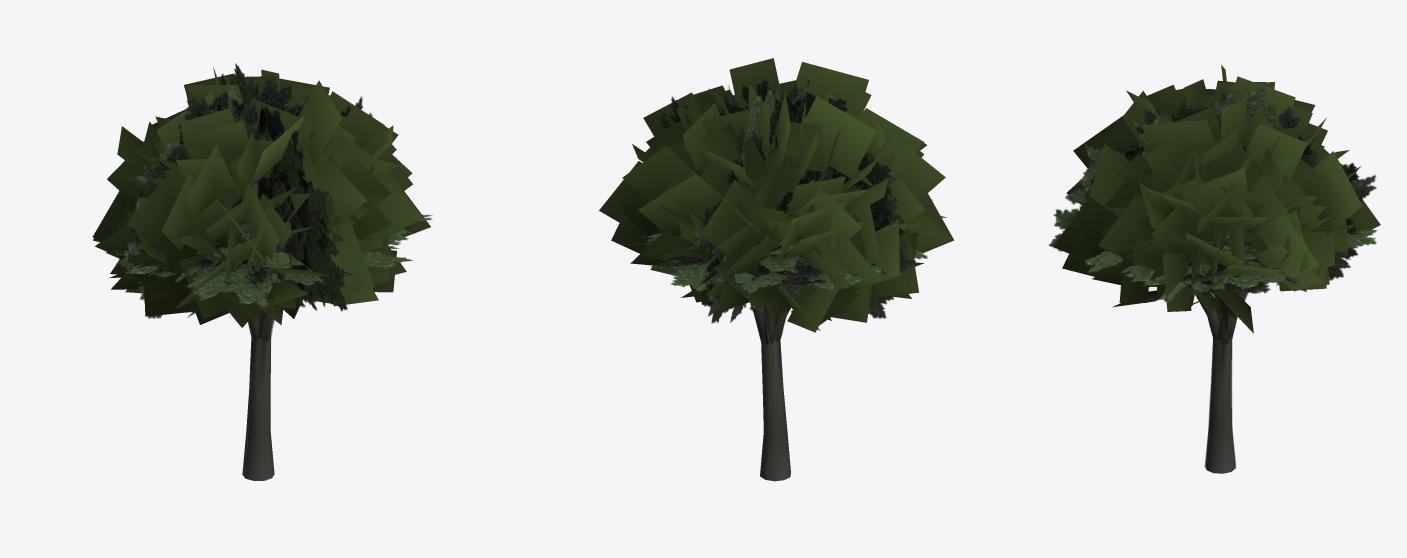
Rendered from veg.tree.broadleaf.glb.
The picture shows the model from 3 angles, left to right: view 1: azimuth 30°, elevation 25°; view 2: azimuth 150°, elevation 25°; view 3: azimuth 270°, elevation 25°; orthographic projection. The views are drawn at different scales.
Visible parts, largest first — view 1: LOD0, IMP; view 2: LOD0, IMP; view 3: LOD0, IMP.
Boxes of the visible parts, box(x1,y1,x2,y2) form: LOD0: box(92, 67, 430, 480); IMP: box(111, 63, 432, 480); LOD0: box(599, 58, 953, 481); IMP: box(622, 79, 947, 480); LOD0: box(1053, 65, 1380, 473); IMP: box(1048, 87, 1376, 467).
Size of what is drawn, in the model's own units: 7.98 by 9.83 by 7.98.
Materials: 3 (1 with a texture image).
